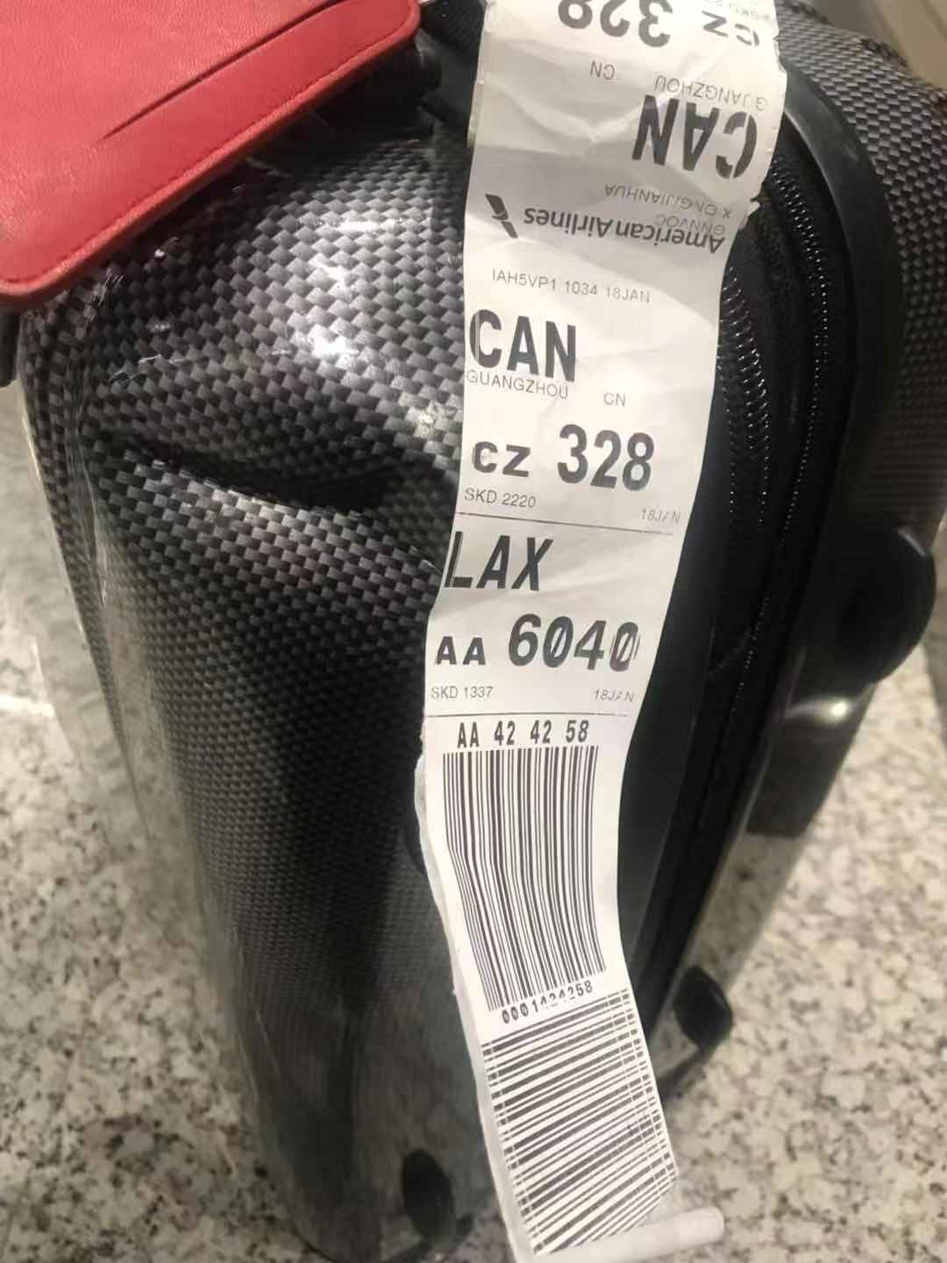hollow: (75, 345, 404, 607)
